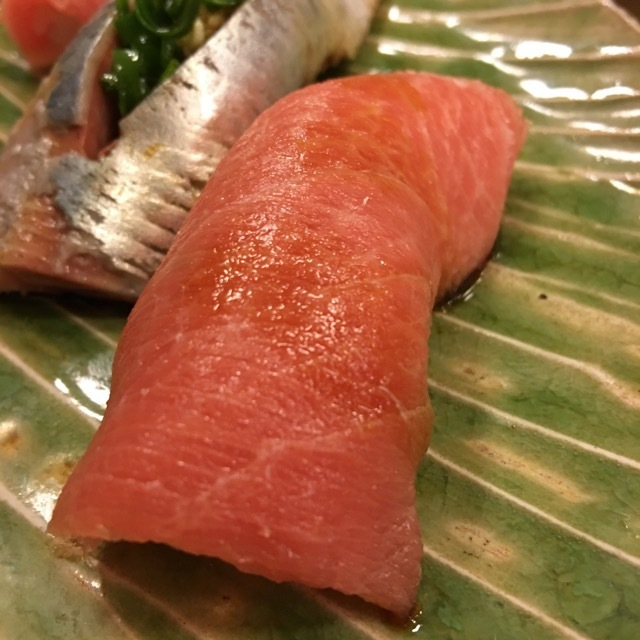medium_fatty_tuna: (103, 71, 510, 609)
